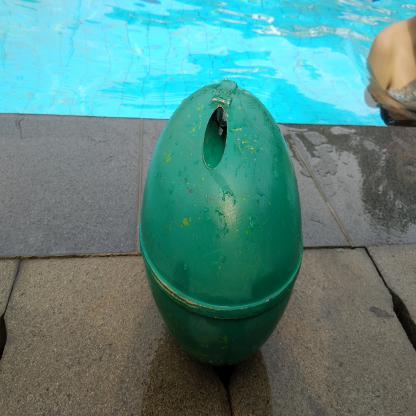green_buoy: (136, 68, 311, 375)
